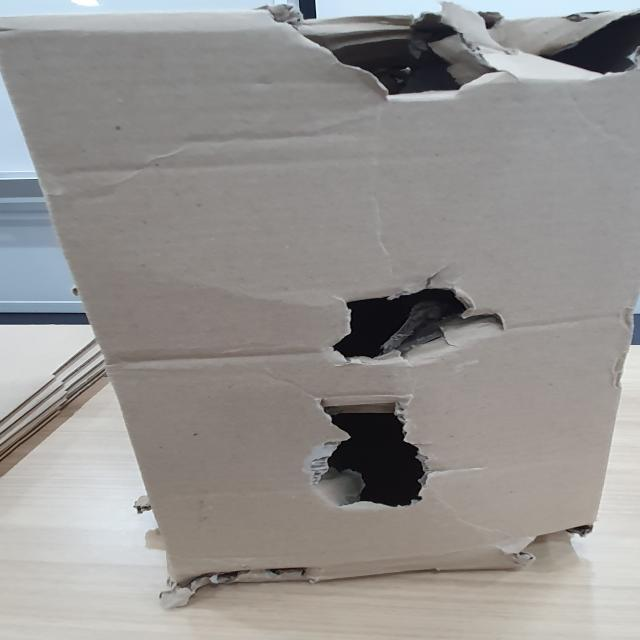hole: (275, 13, 640, 98), (297, 392, 439, 514), (312, 282, 516, 360), (168, 560, 328, 591), (513, 521, 588, 561)
